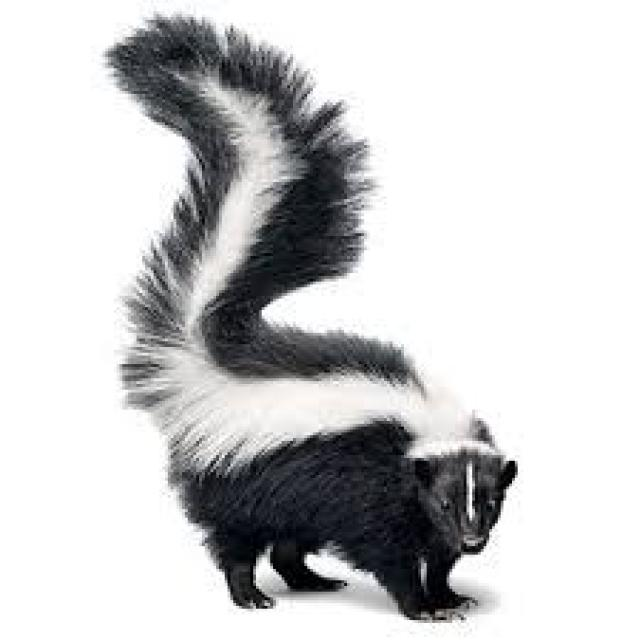Skunk: (87, 10, 511, 630)
